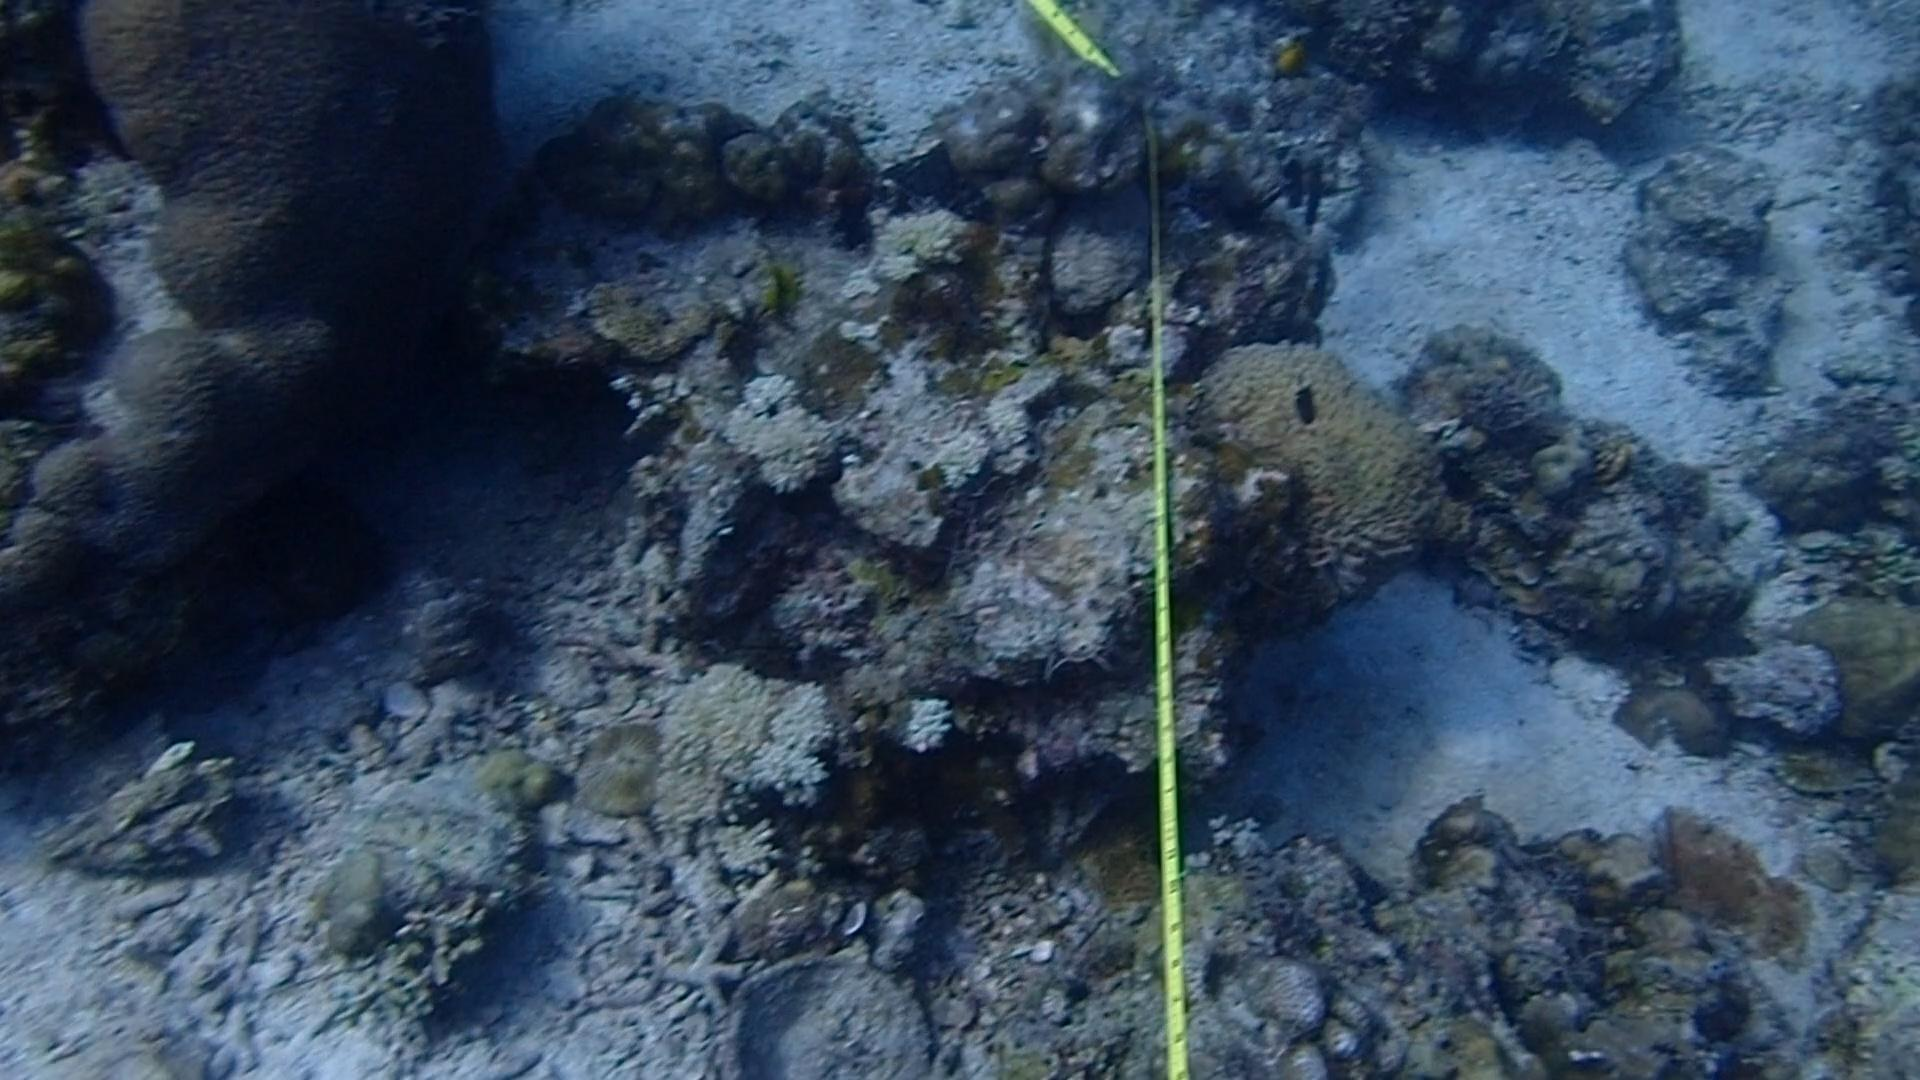Dark Fish: (1420, 443, 1485, 513), (1295, 245, 1338, 323), (1280, 371, 1329, 434), (1267, 141, 1307, 216), (1299, 153, 1331, 235)
